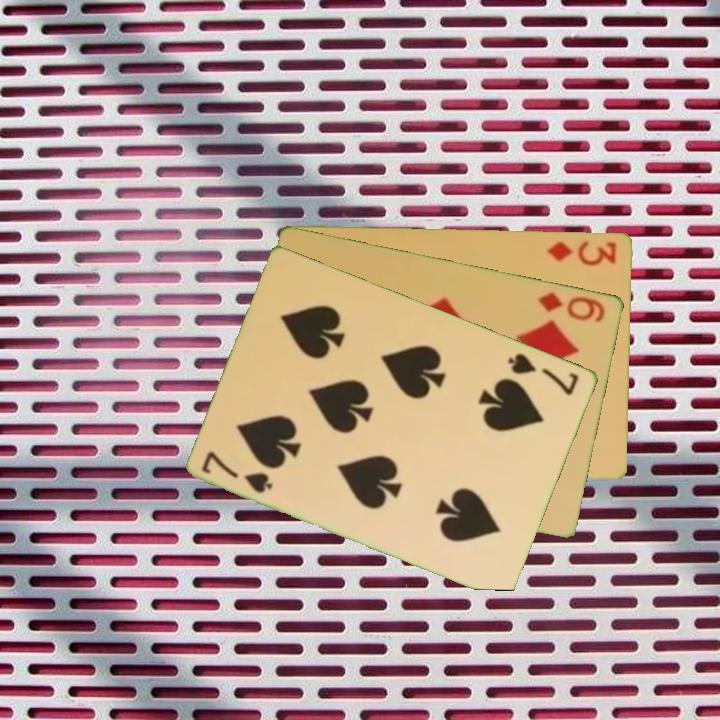3d: (544, 237, 619, 268)
6d: (535, 288, 608, 325)
7s: (504, 349, 582, 398), (198, 447, 276, 496)
